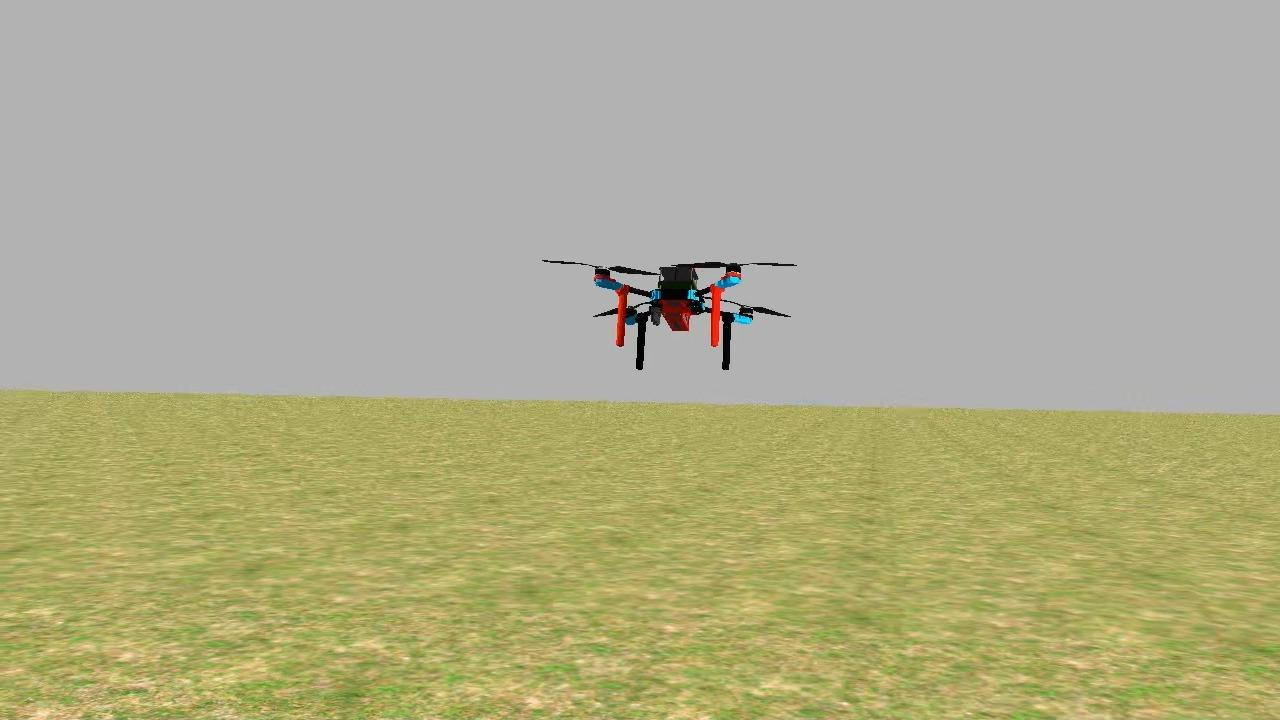UAV: (559, 236, 786, 397)
